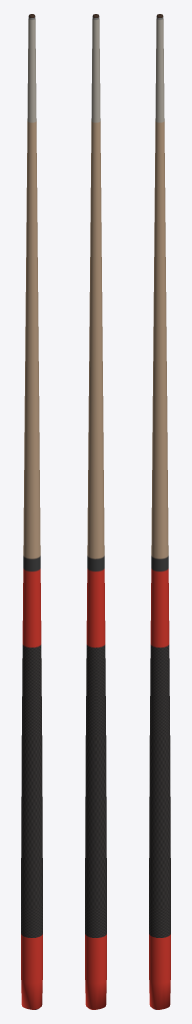
Rendered from poolStick2.dae.
3 renders of one model, left to right at view 1: azimuth 30°, elevation 25°; view 2: azimuth 150°, elevation 25°; view 3: azimuth 330°, elevation 25°, orthographic.
Visible parts, largest first — view 1: poolStick2; view 2: poolStick2; view 3: poolStick2.
Boxes of the visible parts, box(x1,y1,x2,y2) form: poolStick2: box(21, 14, 42, 1009); poolStick2: box(85, 14, 106, 1009); poolStick2: box(149, 14, 170, 1009).
Size of the model in its own units: 2.98 by 147 by 2.98.
